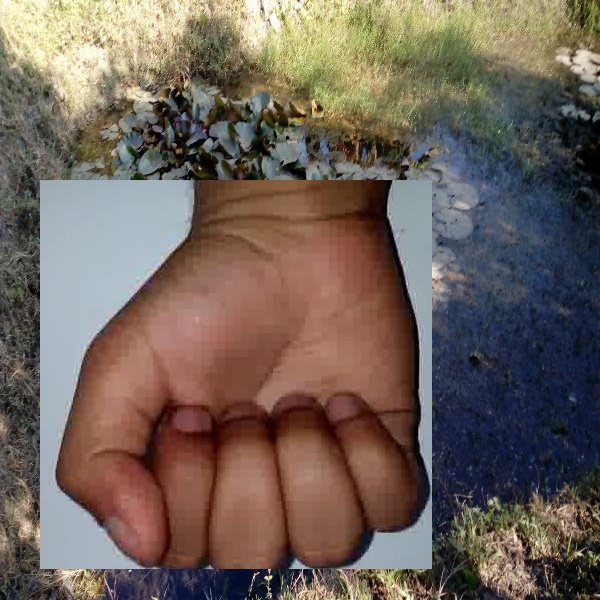A: (40, 180, 432, 569)
